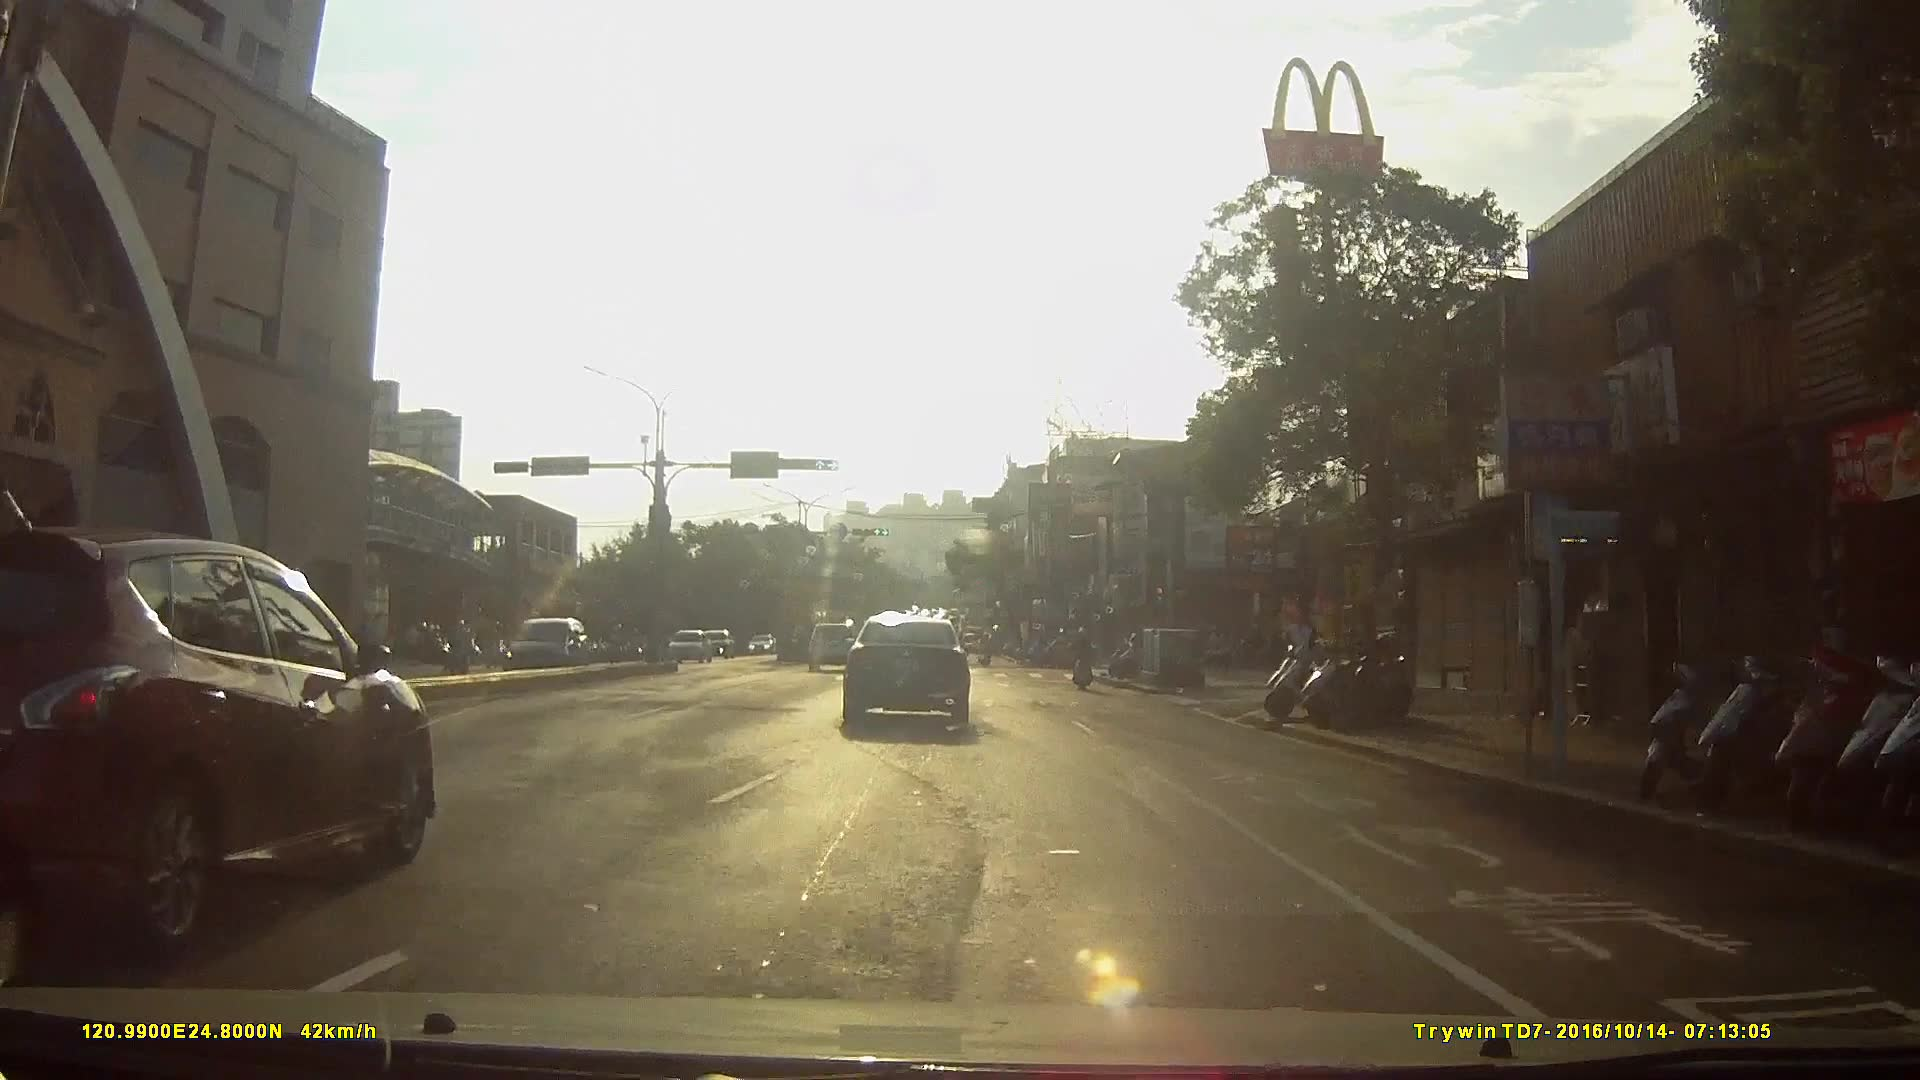rider: (1073, 624, 1099, 692), (1041, 630, 1078, 671), (976, 635, 997, 673)
vehicle: (1, 522, 450, 963), (840, 610, 988, 733), (488, 617, 593, 686), (804, 617, 861, 672), (664, 626, 712, 667), (697, 628, 740, 661)
